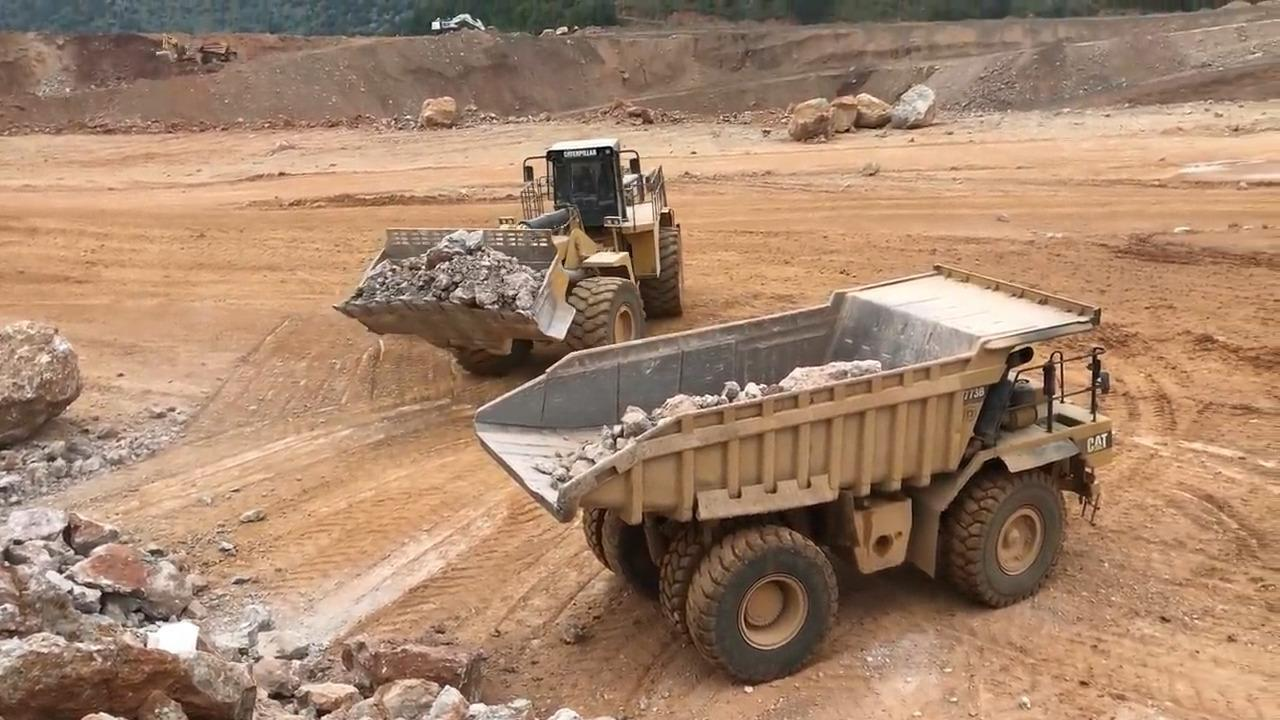dump truck: (464, 255, 1123, 694)
wheel loader: (331, 134, 688, 392)
